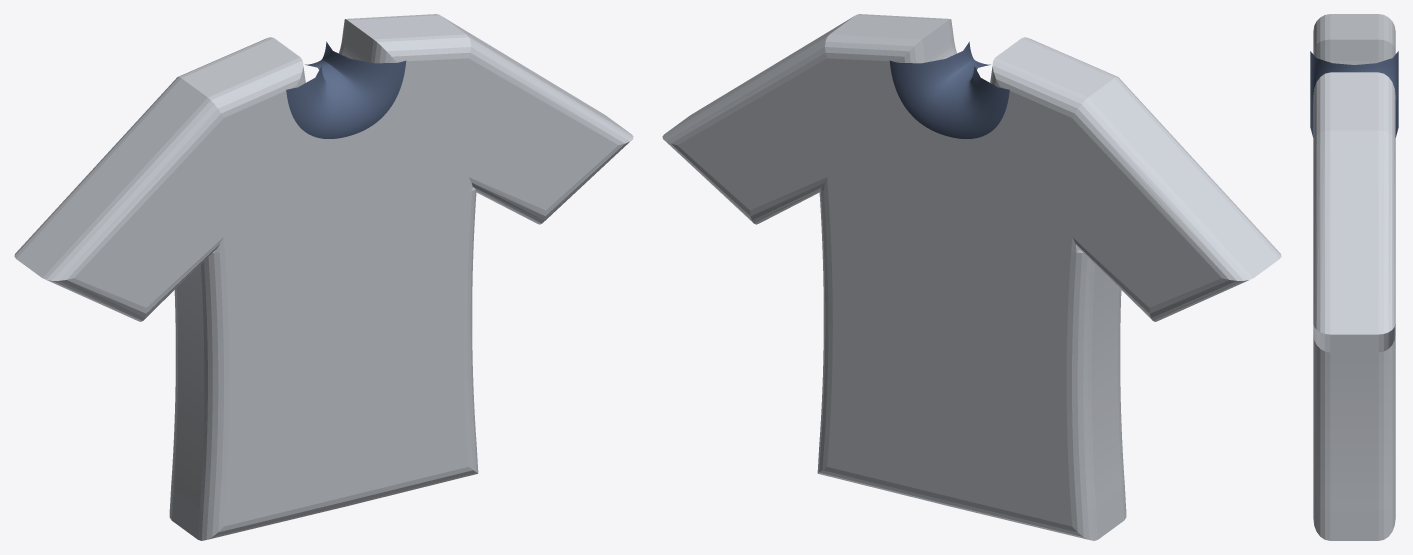
The model's file is tshirt.glb.
The picture shows the model from 3 angles, left to right: view 1: azimuth 30°, elevation 25°; view 2: azimuth 150°, elevation 25°; view 3: azimuth 270°, elevation 25°; orthographic projection. The views are drawn at different scales.
Visible parts, largest first — view 1: TShirtBody, TShirtCollar; view 2: TShirtBody, TShirtCollar; view 3: TShirtBody, TShirtCollar.
Boxes of the visible parts, x1,y1,x2,y2 form: TShirtBody: [14, 14, 633, 540]; TShirtCollar: [286, 41, 406, 138]; TShirtBody: [662, 14, 1281, 540]; TShirtCollar: [889, 41, 1009, 138]; TShirtBody: [1313, 14, 1395, 540]; TShirtCollar: [1310, 51, 1398, 137].
Bounding box in the file's own units: 1.3 × 0.9648 × 0.182.
